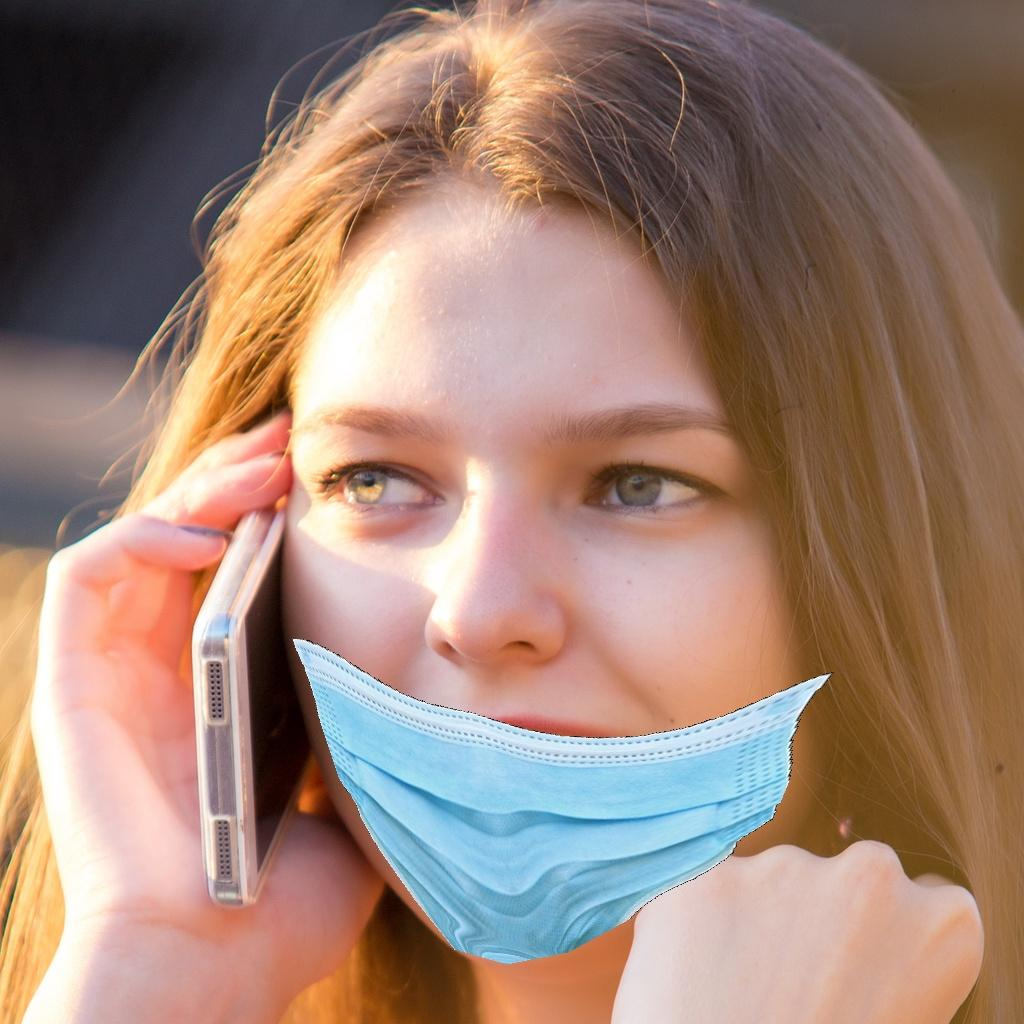Máscara Incorreta: (233, 292, 835, 918)
